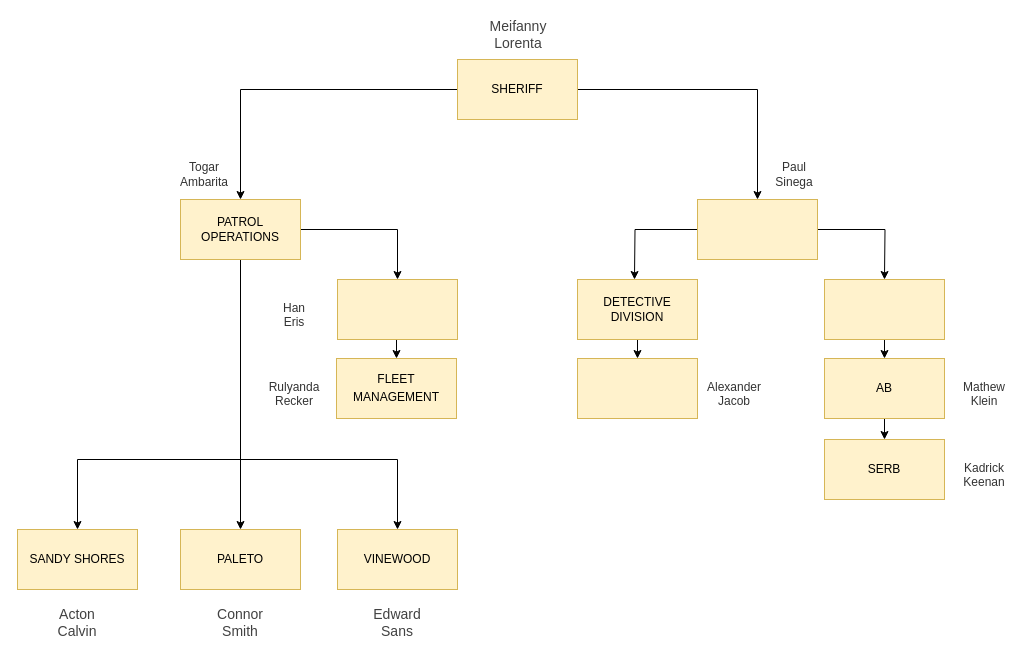
Some shapes in this 1032 by 657 pixel diagram are drawn without their labels. Each missing label, with the centre of its shape:
"ADMINISTRATIVE BUREAU" belongs at pixel 397 309.
"COUNTYWIDE OPERATIONS" belongs at pixel 757 229.
"RSVRB" belongs at pixel 637 388.
"SPEC OPS DIVISION" belongs at pixel 884 309.
